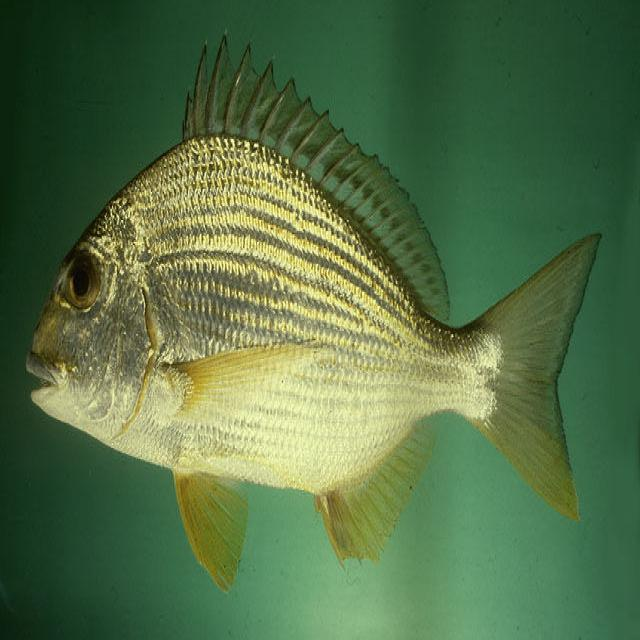ikan: (25, 30, 602, 593)
